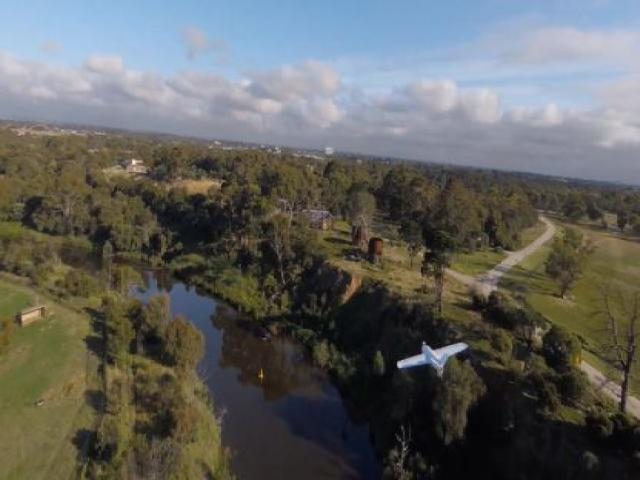uav: (398, 335, 468, 384)
